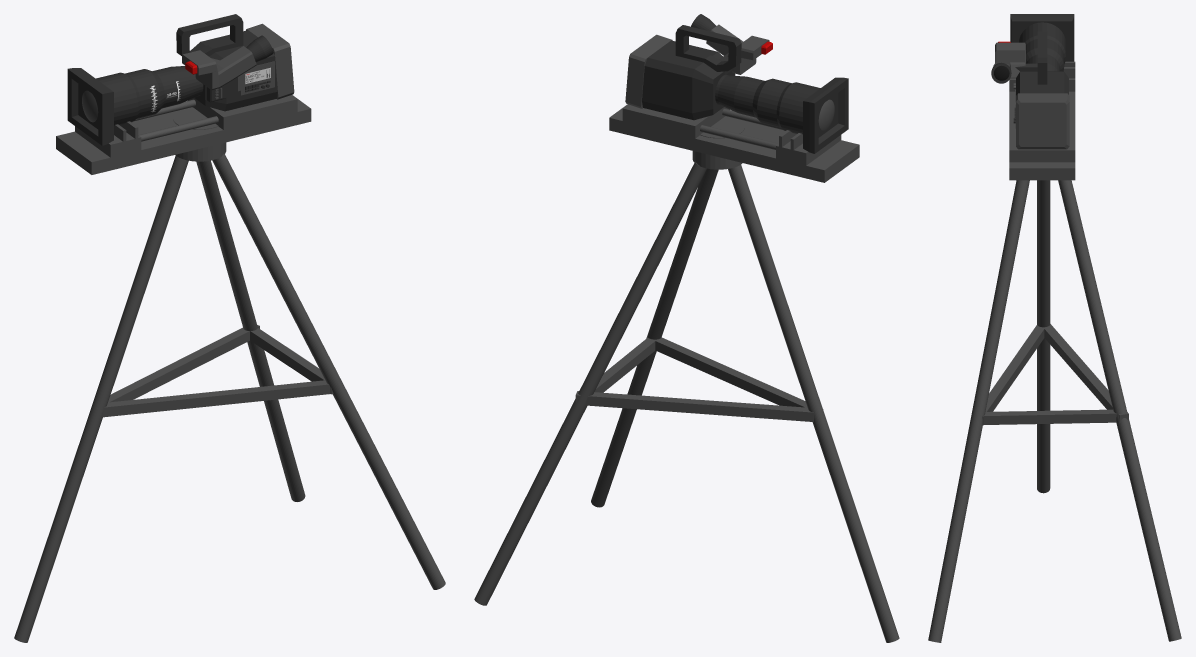
The model's file is camera.glb.
3 views of the same model, side by side, from view 1: azimuth 30°, elevation 25°; view 2: azimuth 150°, elevation 25°; view 3: azimuth 270°, elevation 25° (orthographic). The views are drawn at different scales.
Parts seen in each view (by area): view 1: cinecam_0; view 2: cinecam_0; view 3: cinecam_0.
Part boxes in pixels (x1,y1,x2,y2): cinecam_0: [14, 14, 445, 642]; cinecam_0: [474, 14, 899, 642]; cinecam_0: [928, 14, 1181, 642].
Size of the model in its own units: 1.2 by 1.77 by 0.7684.
Materials: 13 (2 with a texture image).
